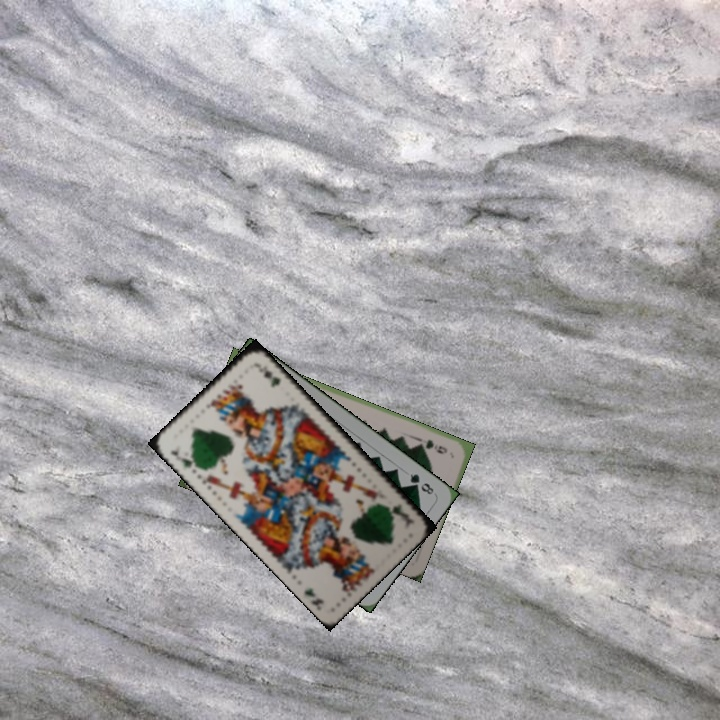G8: (406, 469, 438, 497)
G9: (422, 435, 450, 456)
GK: (166, 443, 202, 471), (382, 499, 414, 523)
